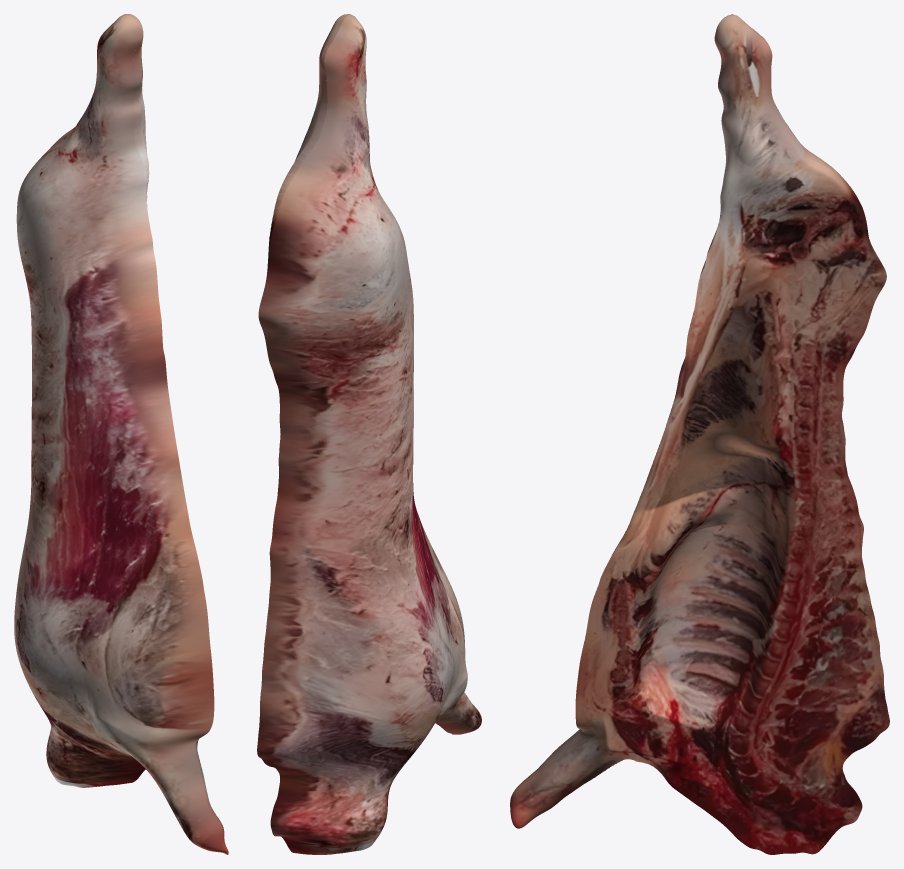
The model's file is demi_carcasse_boeuf_v19.glb.
3 views of the same model, side by side, from view 1: azimuth 30°, elevation 25°; view 2: azimuth 150°, elevation 25°; view 3: azimuth 270°, elevation 25° (orthographic). The views are drawn at different scales.
Visible parts, largest first — view 1: face_exterieure, face_de_fente; view 2: face_exterieure, face_de_fente; view 3: face_de_fente, face_exterieure.
Part boxes in pixels (x1,y1,x2,y2): face_exterieure: [14, 14, 228, 854]; face_de_fente: [126, 14, 228, 853]; face_exterieure: [257, 14, 481, 854]; face_de_fente: [268, 14, 452, 734]; face_de_fente: [510, 15, 889, 854]; face_exterieure: [513, 14, 882, 792].
Bounding box in the file's own units: 0.4164 × 2.5 × 1.03.
2 materials, 2 textured.
